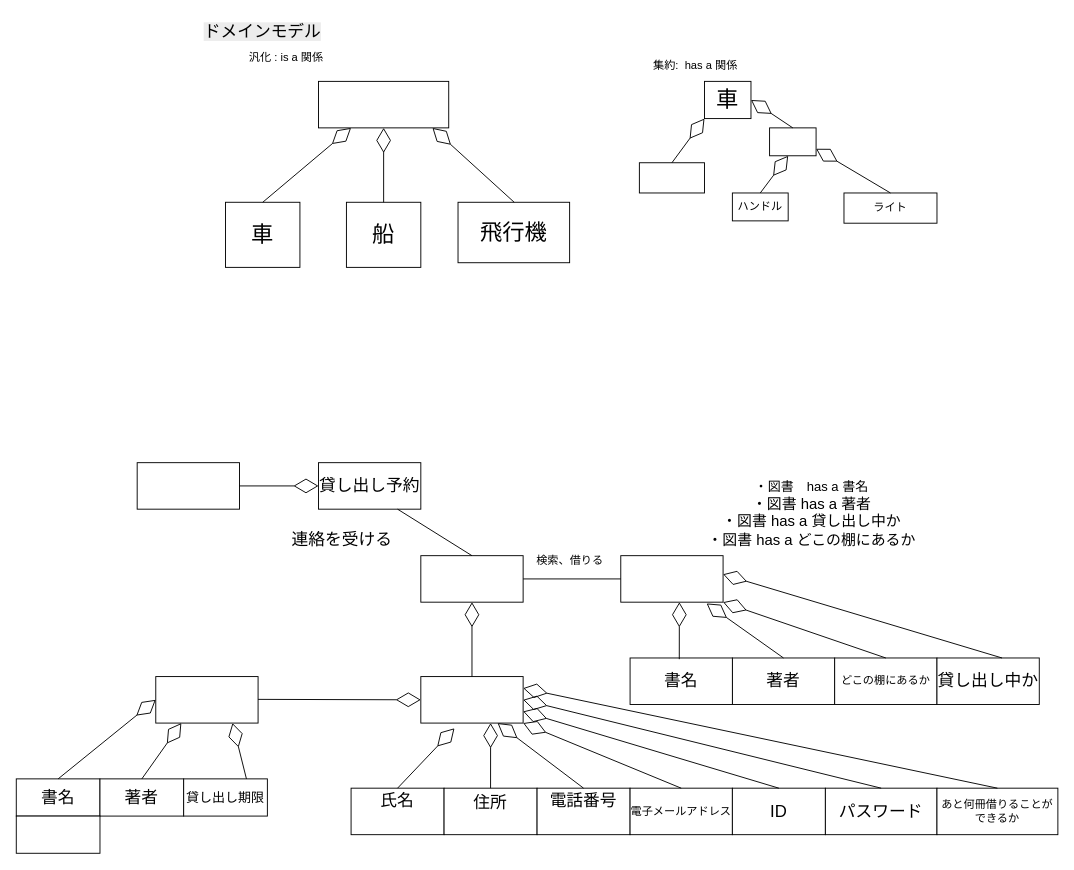
Image size: 1074x870. Some labels were removed from this diagram. Each missing label, with the centre of its shape:
※本のID: the point at 57,834
エンジン: the point at 671,177
ボディ: the point at 792,141
乗り物: the point at 383,104
借りている本: the point at 206,699
利用者: the point at 471,578
図書: the point at 671,578
図書カード: the point at 471,699
必要事項: the point at 187,485
